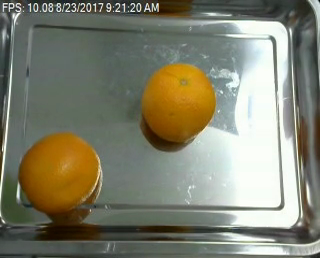Orange: (18, 132, 100, 213), (141, 62, 216, 141)
